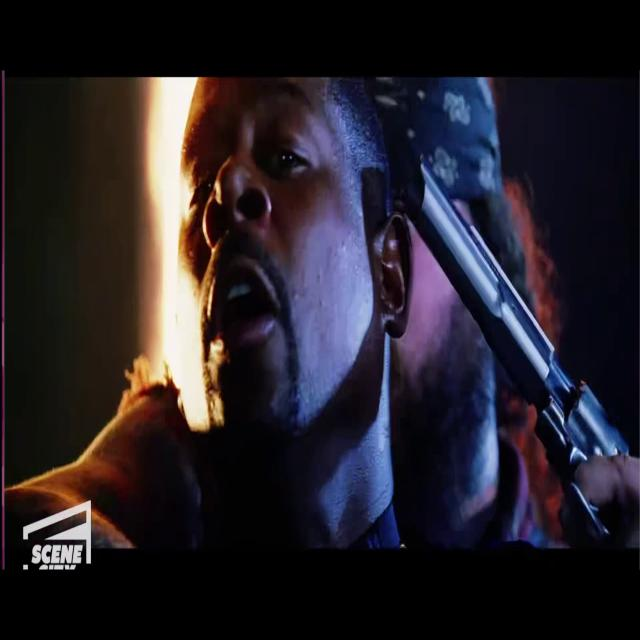weapons: (385, 132, 632, 538)
